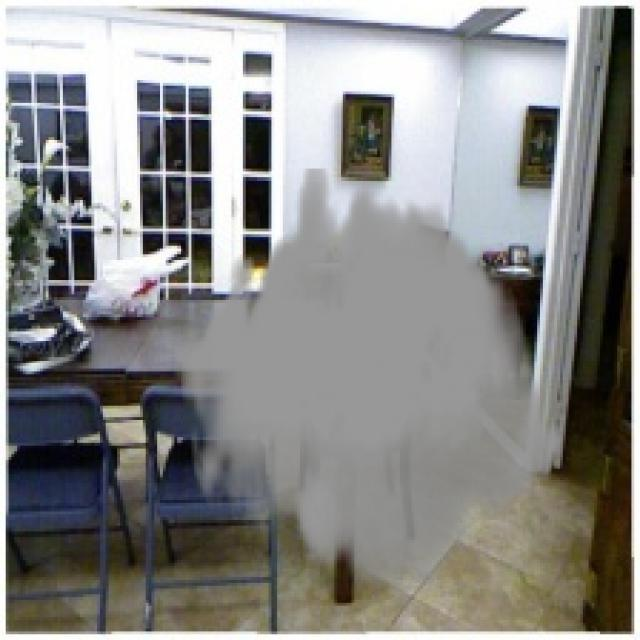Smoke: (171, 168, 563, 594)
